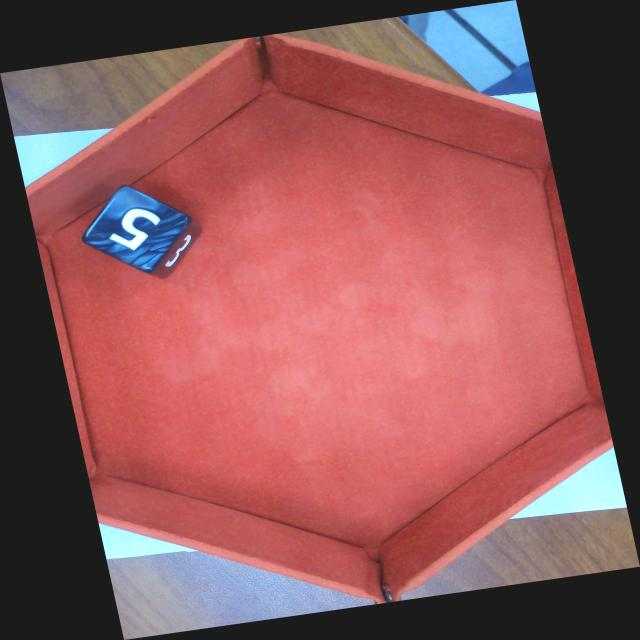dice: (93, 191, 185, 267)
